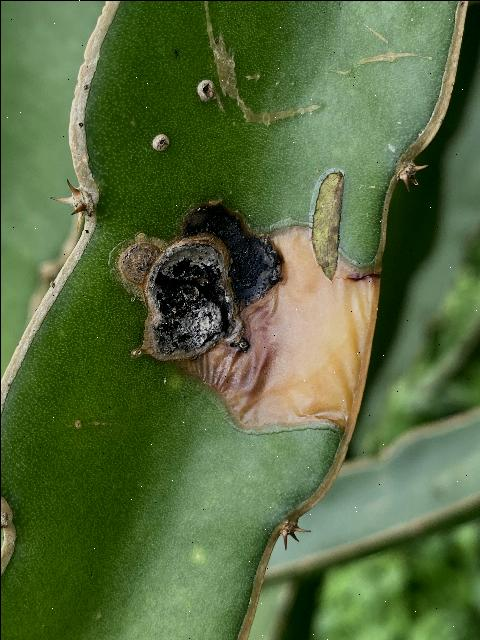stemcanker: (111, 195, 384, 433)
